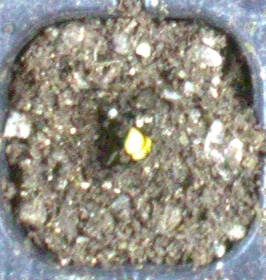pepper seed: (55, 54, 207, 215), (50, 48, 196, 203)
